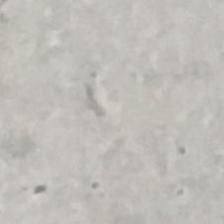Non_Crack: (36, 33, 179, 166)
